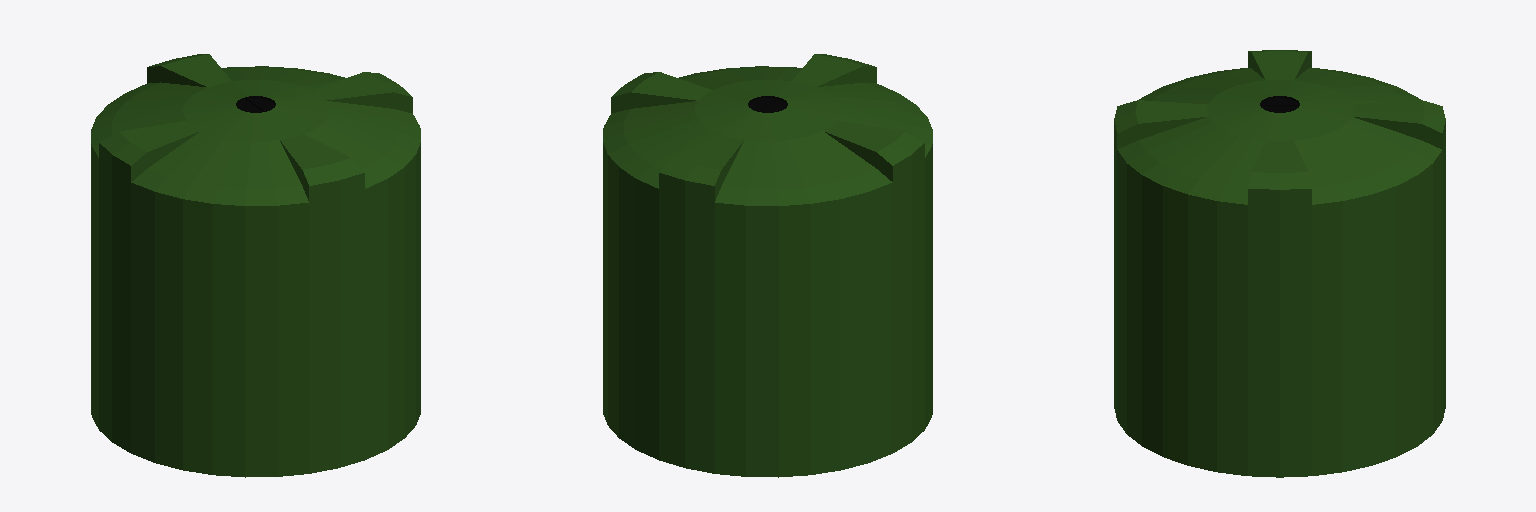
File: Water_Tank.obj
3 views of the same model, side by side, from view 1: azimuth 30°, elevation 25°; view 2: azimuth 150°, elevation 25°; view 3: azimuth 270°, elevation 25° (orthographic).
Parts seen in each view (by area): view 1: Cylinder.043_Cylinder; view 2: Cylinder.043_Cylinder; view 3: Cylinder.043_Cylinder.
Boxes of the visible parts, <box> form: Cylinder.043_Cylinder: <box>91,54,420,477</box>; Cylinder.043_Cylinder: <box>603,54,932,477</box>; Cylinder.043_Cylinder: <box>1114,50,1445,477</box>.
Bounding box in the file's own units: 1.83 × 1.84 × 1.83.